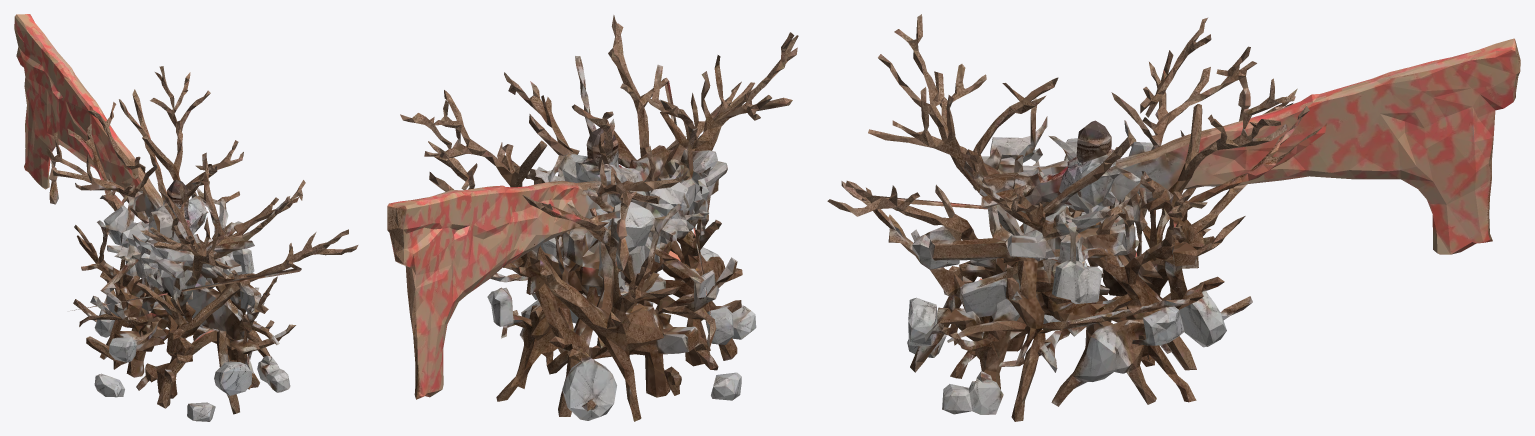
File: belly (7).glb
The picture shows the model from 3 angles, left to right: view 1: azimuth 30°, elevation 25°; view 2: azimuth 150°, elevation 25°; view 3: azimuth 270°, elevation 25°; orthographic projection. The views are drawn at different scales.
Parts seen in each view (by area): view 1: Hy21_Mesh.obj; view 2: Hy21_Mesh.obj; view 3: Hy21_Mesh.obj.
Part boxes in pixels (<box>): Hy21_Mesh.obj: <box>14,14,358,421</box>; Hy21_Mesh.obj: <box>387,15,798,421</box>; Hy21_Mesh.obj: <box>827,14,1520,421</box>.
Size of the model in its own units: 0.7468 by 0.8737 by 1.64.
1 material, 1 textured.
